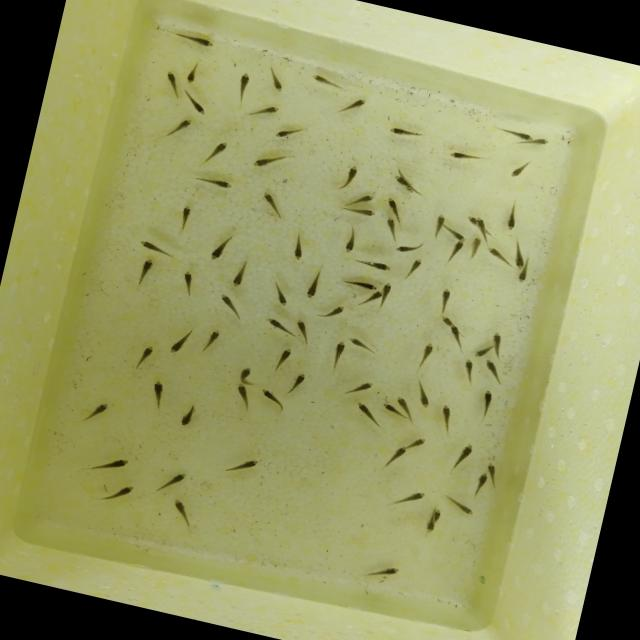fingerling: (168, 498, 201, 534), (100, 478, 138, 509), (88, 450, 128, 479), (222, 452, 262, 481), (352, 402, 389, 432), (178, 88, 214, 118), (165, 326, 195, 360), (392, 484, 428, 512), (214, 292, 247, 322), (154, 468, 186, 498), (450, 438, 478, 472), (196, 324, 222, 359), (200, 138, 230, 168), (80, 398, 110, 428), (208, 230, 234, 264), (161, 116, 192, 144), (158, 65, 185, 97), (340, 376, 376, 400), (148, 378, 172, 412), (479, 356, 508, 384), (230, 380, 256, 411), (254, 386, 286, 411), (257, 186, 285, 214), (434, 404, 458, 436), (412, 376, 437, 406), (482, 243, 512, 268), (228, 254, 250, 288), (303, 265, 324, 300), (501, 199, 522, 233), (252, 100, 284, 122), (264, 70, 291, 96), (135, 254, 155, 289), (270, 277, 294, 306), (184, 32, 217, 53), (358, 257, 394, 276), (268, 122, 299, 144), (379, 216, 404, 243), (286, 370, 310, 398), (445, 497, 477, 518), (384, 121, 416, 142), (137, 238, 174, 256), (367, 564, 400, 584), (178, 400, 200, 430), (329, 338, 350, 369), (132, 342, 157, 368), (304, 72, 340, 90), (342, 276, 378, 294), (499, 124, 535, 142), (194, 174, 234, 190), (510, 238, 530, 270), (262, 314, 291, 336), (358, 288, 384, 312), (342, 92, 369, 115), (271, 345, 294, 372), (287, 235, 310, 262), (469, 468, 489, 499), (247, 154, 278, 174), (347, 188, 378, 208), (344, 203, 380, 220), (290, 318, 313, 344), (321, 302, 348, 324), (178, 266, 198, 295), (444, 322, 465, 349), (416, 340, 436, 368), (482, 455, 502, 483), (338, 160, 361, 184), (430, 212, 449, 241), (382, 194, 407, 216), (458, 356, 480, 381), (446, 148, 480, 164), (234, 68, 252, 98), (389, 442, 408, 470), (177, 202, 196, 230), (478, 389, 497, 417), (507, 158, 529, 182), (344, 334, 373, 352), (487, 331, 507, 356), (465, 235, 483, 262), (388, 171, 412, 191), (388, 242, 418, 258), (437, 284, 454, 312), (408, 432, 430, 453), (446, 237, 466, 260), (235, 365, 259, 384), (512, 266, 532, 287), (184, 59, 199, 86), (378, 280, 394, 305), (342, 232, 358, 256), (406, 256, 422, 280), (471, 344, 492, 362), (394, 395, 413, 414), (381, 402, 401, 420), (530, 134, 550, 150), (446, 228, 468, 242), (472, 214, 486, 233), (438, 314, 456, 326), (422, 518, 436, 532), (430, 508, 444, 522), (463, 213, 478, 225)
